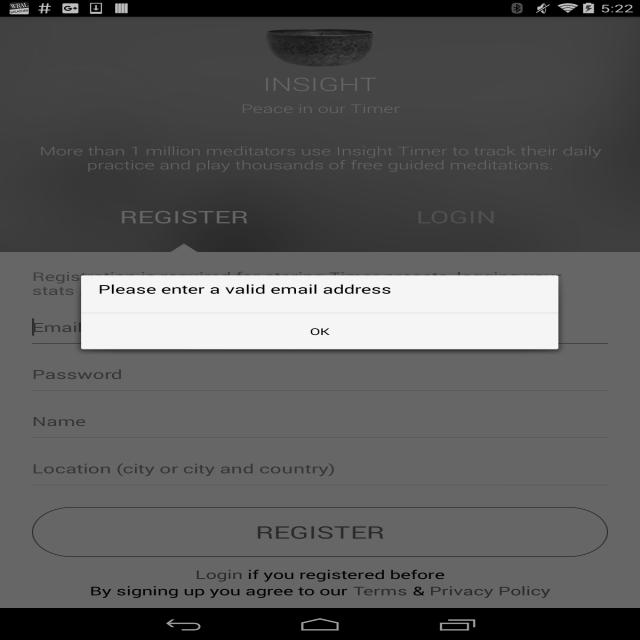Button: (18, 500, 620, 561)
EditText: (23, 367, 614, 398)
ImageView: (250, 25, 388, 66)
TextView: (41, 141, 610, 181), (247, 74, 408, 121), (85, 280, 402, 303), (88, 585, 565, 599), (27, 459, 354, 477), (190, 567, 457, 582), (116, 207, 262, 234), (412, 206, 521, 230), (300, 319, 341, 337)
